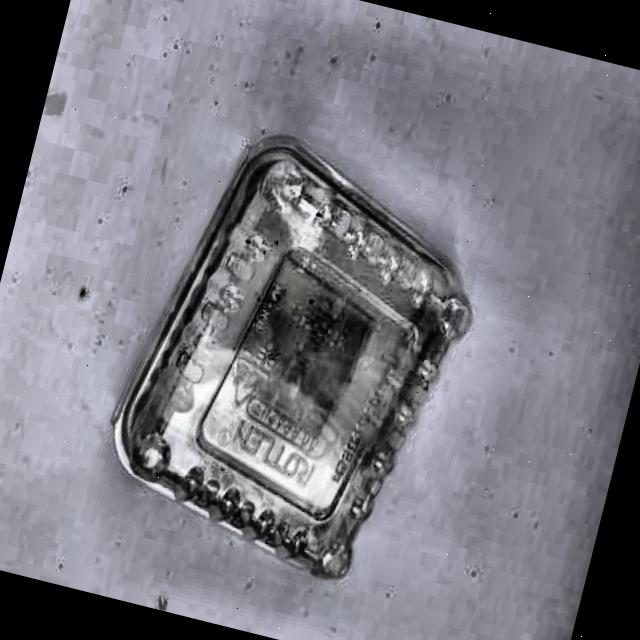plastic: (92, 110, 496, 596)
